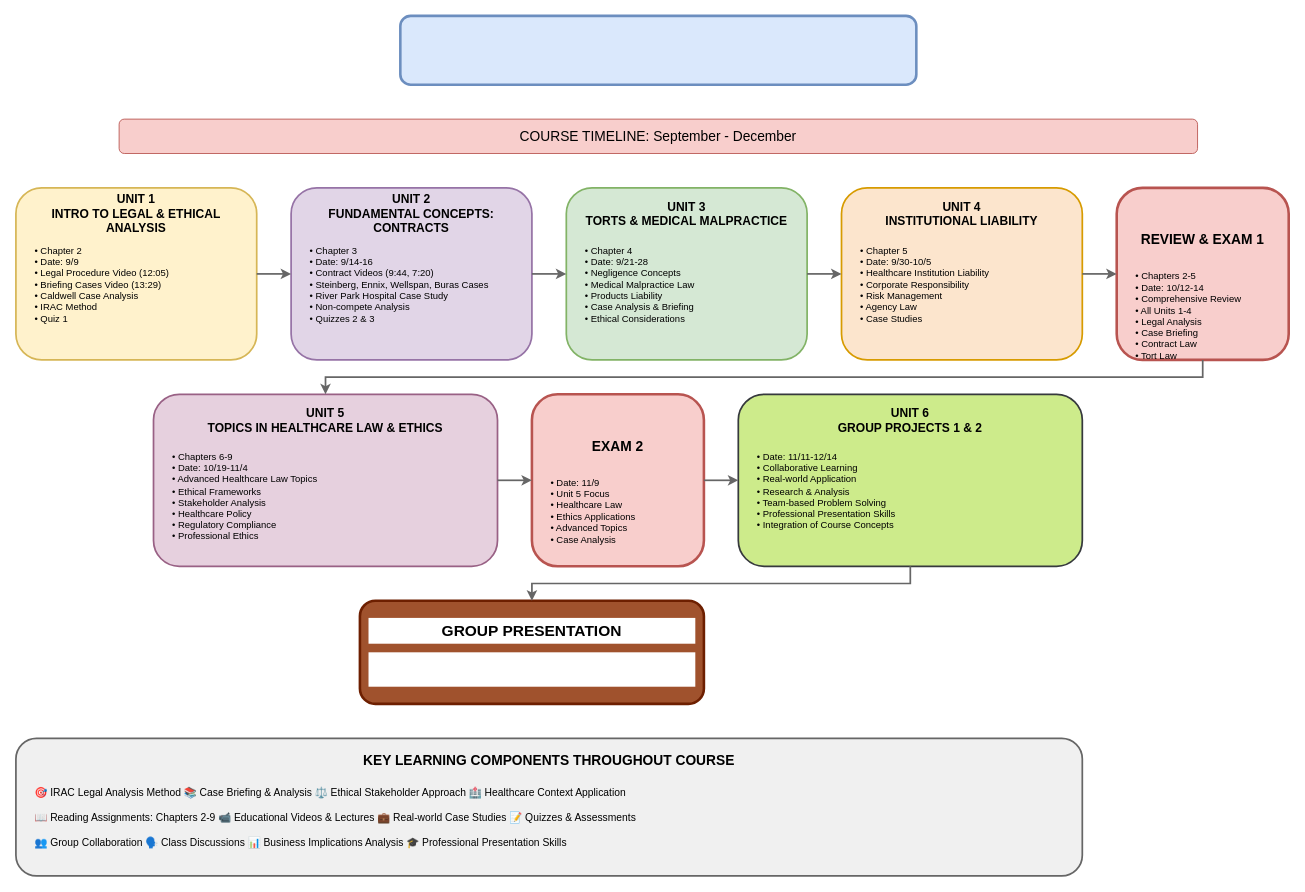
Image size: 1305x892. Some labels were removed from this diagram. The shapes that lost their labels are listed below. From the top down, each one's box as (x1, y1, x2, y2) in pixels, then its label:
(399, 14, 917, 86): BUSINESS LAW COURSE OVERVIEW
(368, 652, 695, 686): Date: 12/17 | Time: 1:30PM-3:30PM Culminating Course Experience
